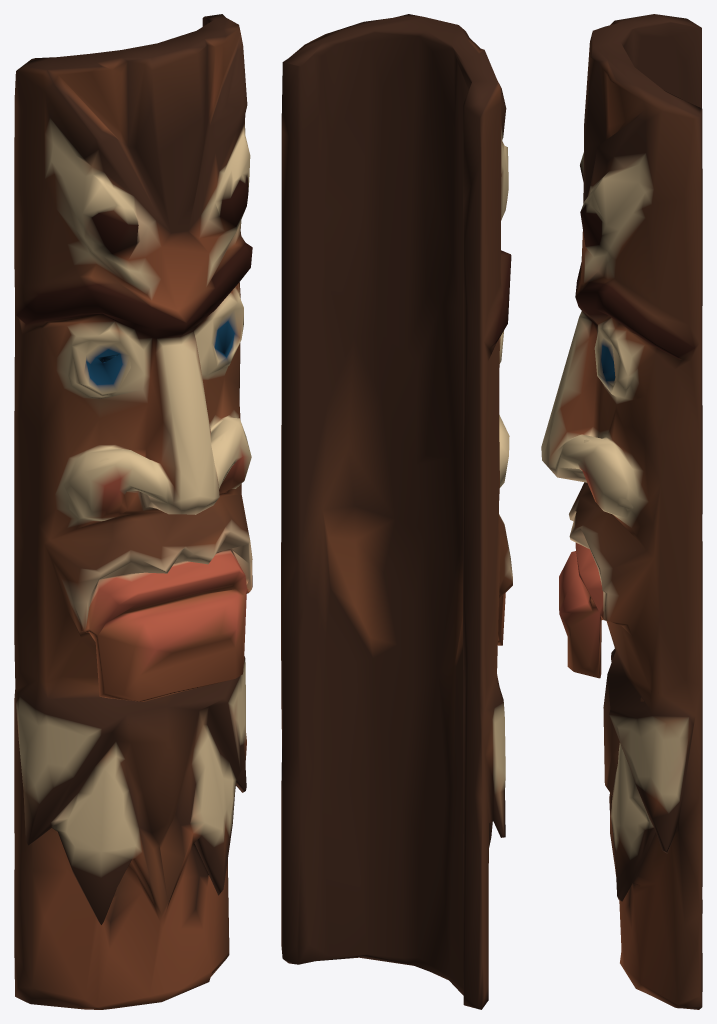
The model's file is gen3d-tribal-totem-pole-lod0.glb.
3 views of the same model, side by side, from view 1: azimuth 30°, elevation 25°; view 2: azimuth 150°, elevation 25°; view 3: azimuth 270°, elevation 25° (orthographic). The views are drawn at different scales.
Visible parts, largest first — view 1: part_0; view 2: part_0; view 3: part_0.
Boxes of the visible parts, box(x1,y1,x2,y2) form: part_0: box(14, 14, 252, 1009); part_0: box(281, 14, 512, 1009); part_0: box(541, 14, 702, 1009).
Bounding box in the file's own units: 0.2391 × 1 × 0.1585.
